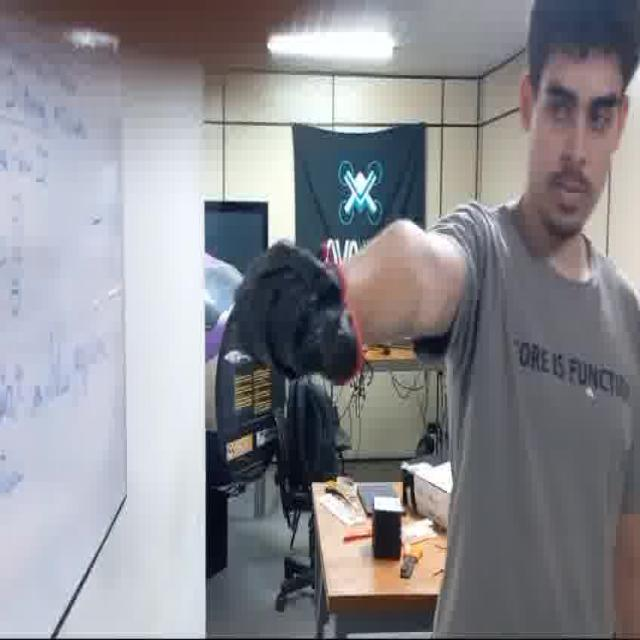Gloves: (236, 238, 360, 388)
